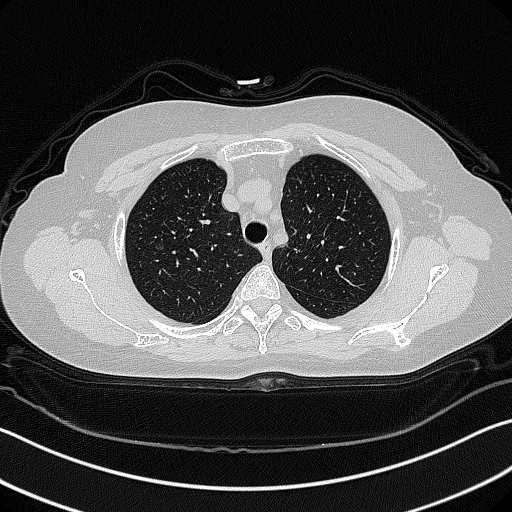nodule: (155, 240, 163, 250)
